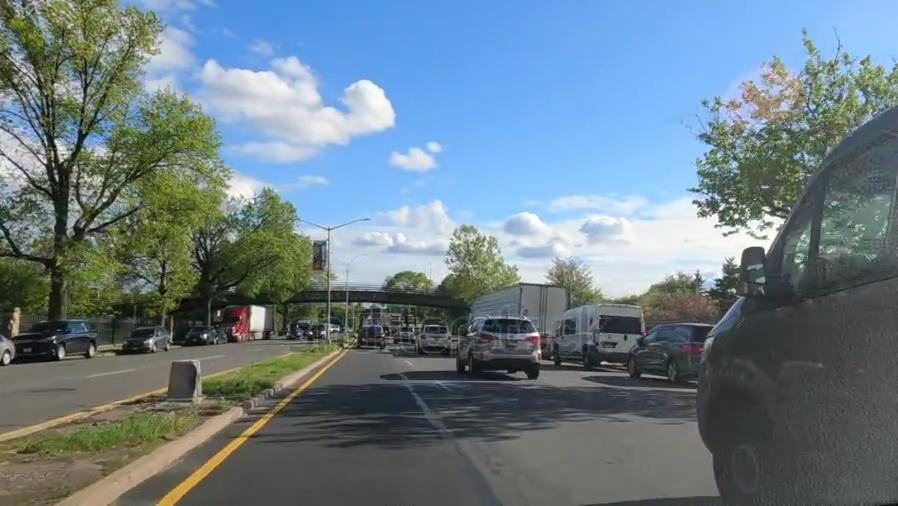car: (463, 319, 544, 373), (19, 321, 102, 367), (628, 327, 703, 377), (119, 328, 167, 355), (414, 324, 450, 356), (355, 326, 387, 351), (178, 328, 211, 346), (393, 327, 415, 342)
truck: (464, 283, 573, 326)
van: (718, 108, 895, 503), (555, 302, 653, 367)
wheel: (701, 403, 782, 506)
